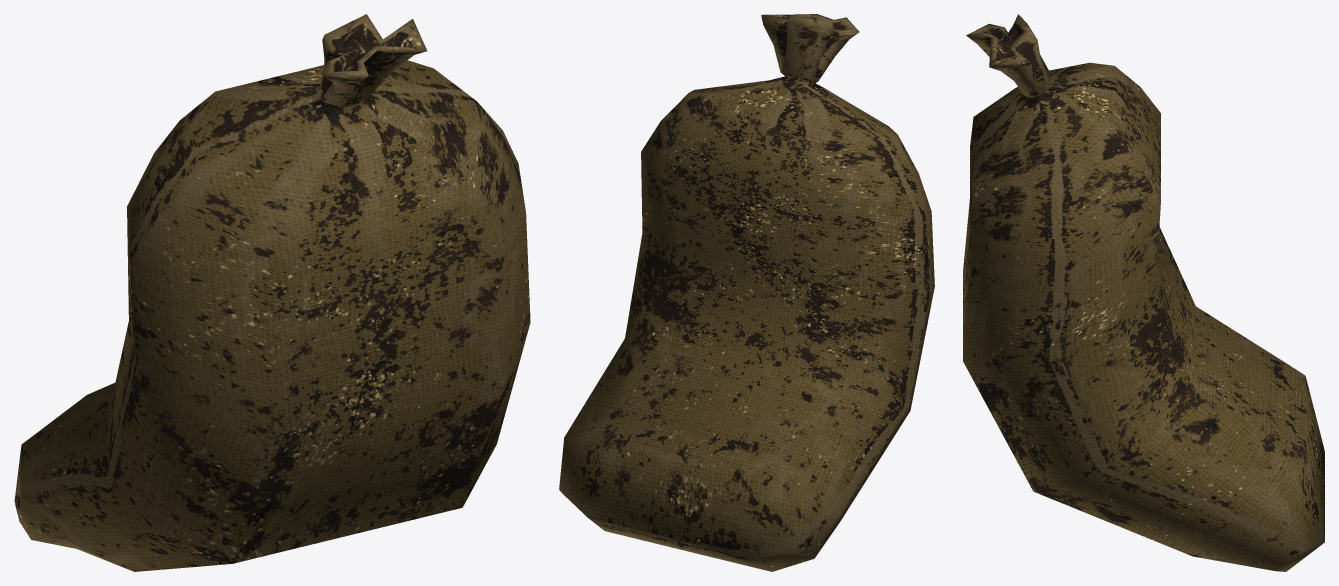
File: bag_2.fbx
3 renders of one model, left to right at view 1: azimuth 30°, elevation 25°; view 2: azimuth 150°, elevation 25°; view 3: azimuth 270°, elevation 25°, orthographic. The views are drawn at different scales.
Parts seen in each view (by area): view 1: bag_2; view 2: bag_2; view 3: bag_2.
Boxes of the visible parts, x1,y1,x2,y2 form: bag_2: (14, 14, 530, 571); bag_2: (559, 14, 934, 571); bag_2: (963, 14, 1324, 571).
Bounding box in the file's own units: 48.23 × 73.53 × 48.03.
1 material, 1 textured.
